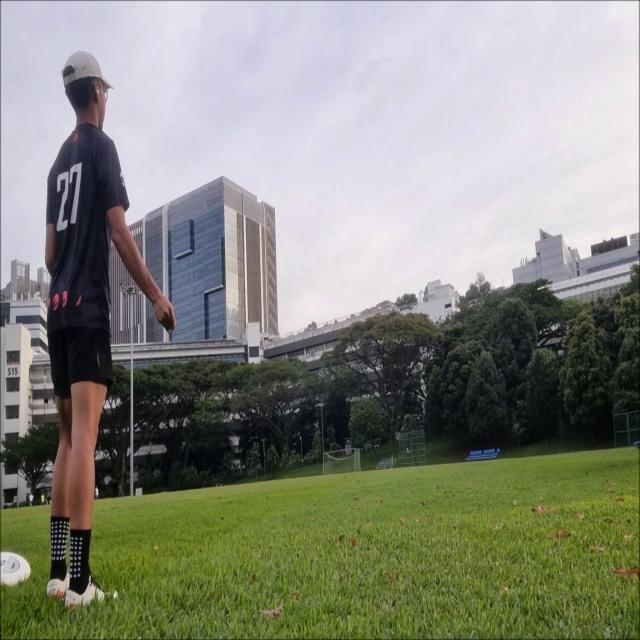disc: (535, 286, 546, 291)
